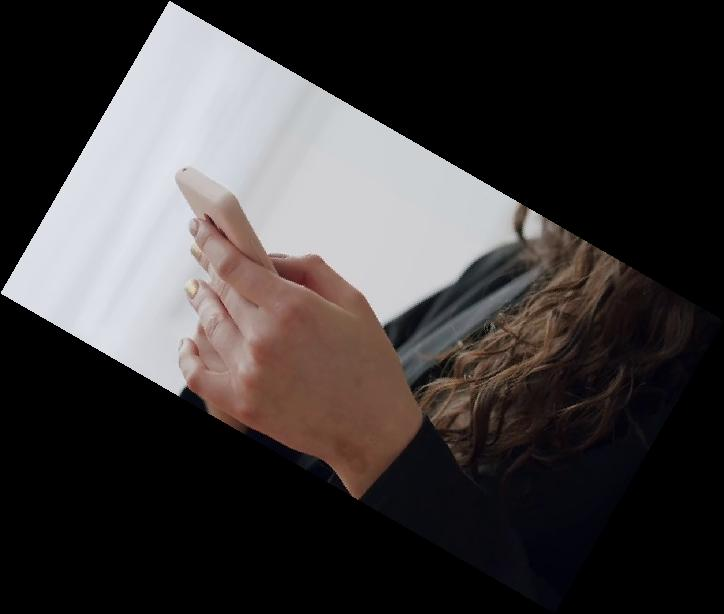phone: (169, 161, 283, 280)
